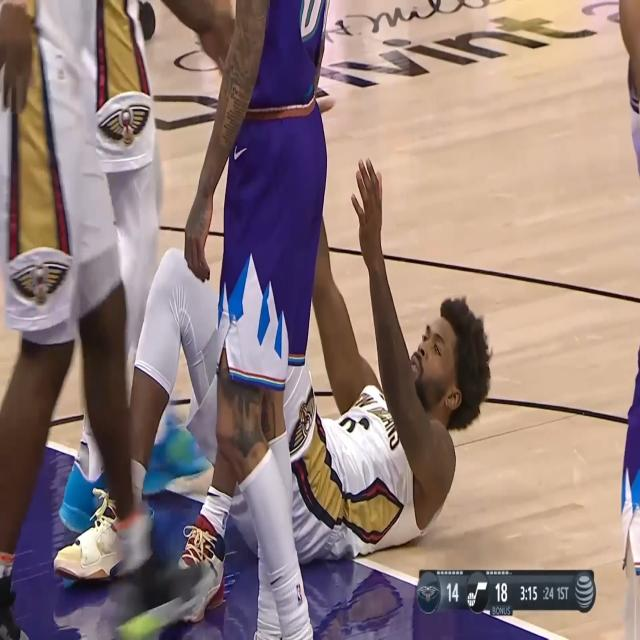Period: (556, 583, 570, 604)
Player: (49, 153, 490, 623), (0, 0, 214, 640), (184, 0, 328, 640), (57, 0, 213, 535), (617, 0, 640, 640)
Shot Clock: (543, 584, 554, 602)
Team Points: (446, 581, 460, 606), (496, 581, 507, 606)
Time Remaining: (518, 583, 541, 603)
